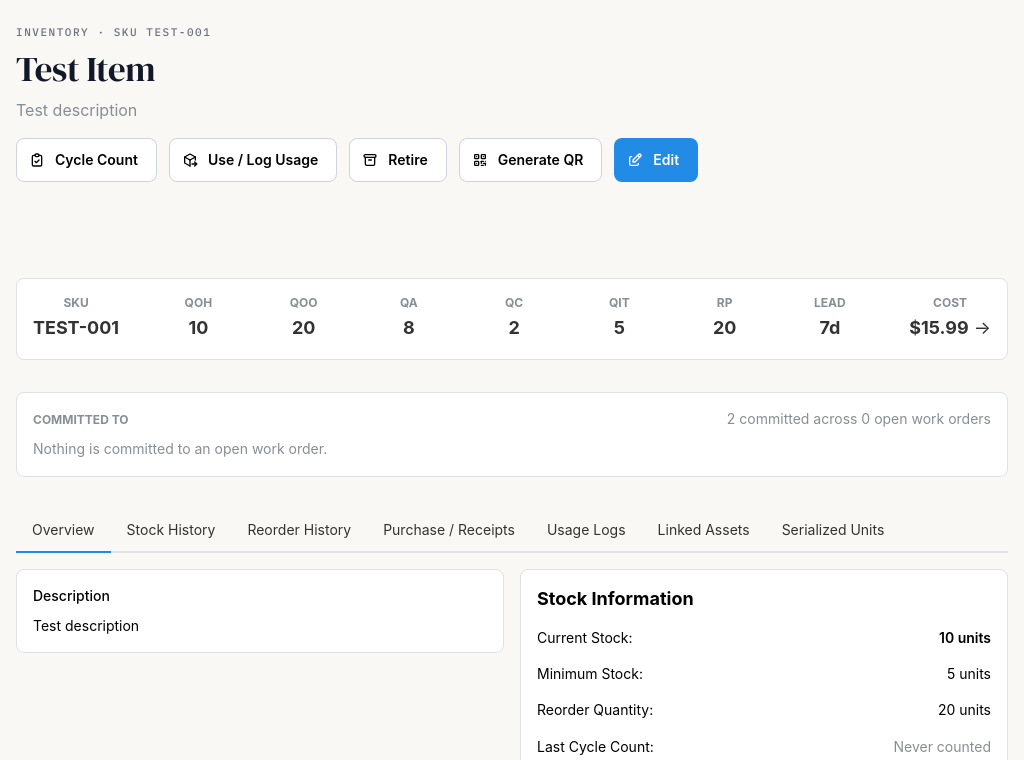
Test: InventoryItemDetailPage › renders empty-state copy for each history tab when there is no activity
Expected: the heading "Test Item" is shown, [16,45,155,93]
# Each history tab shows its own empty-state copy once activated.
Step 1. Click the tab "Reorder History" → (299, 531), box [231,509,367,553]
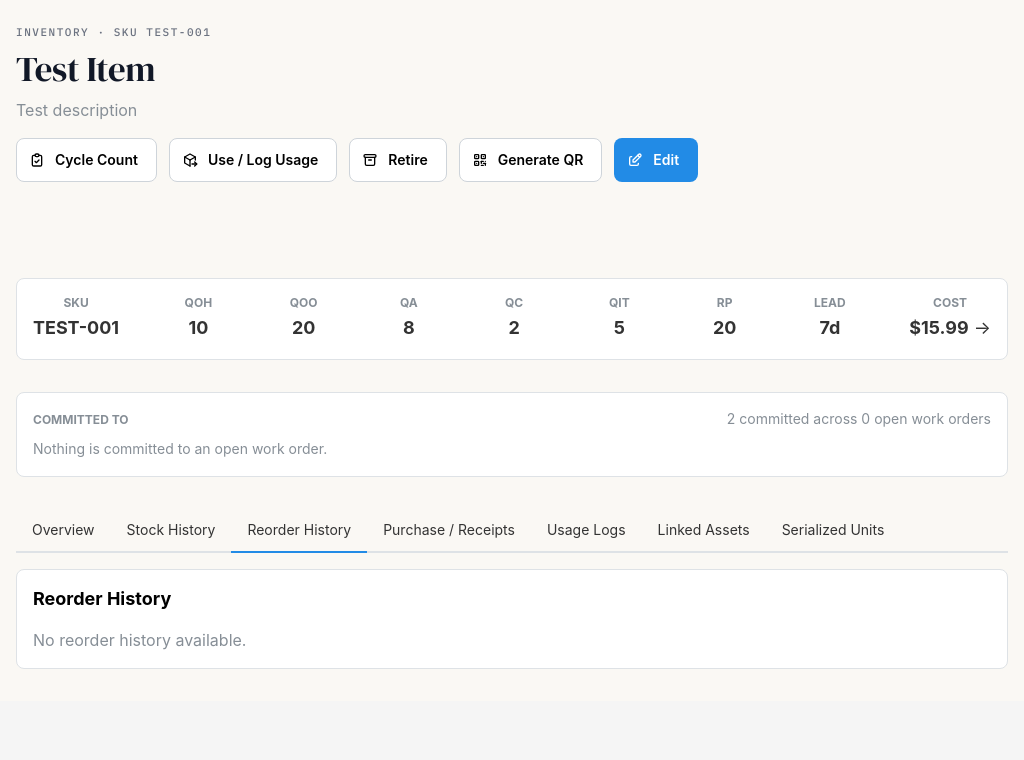
Result: the text "No reorder history available." is shown at [33,630,246,650]
Step 2. Click the tab "Usage Logs" → (586, 531), box [531,509,642,553]
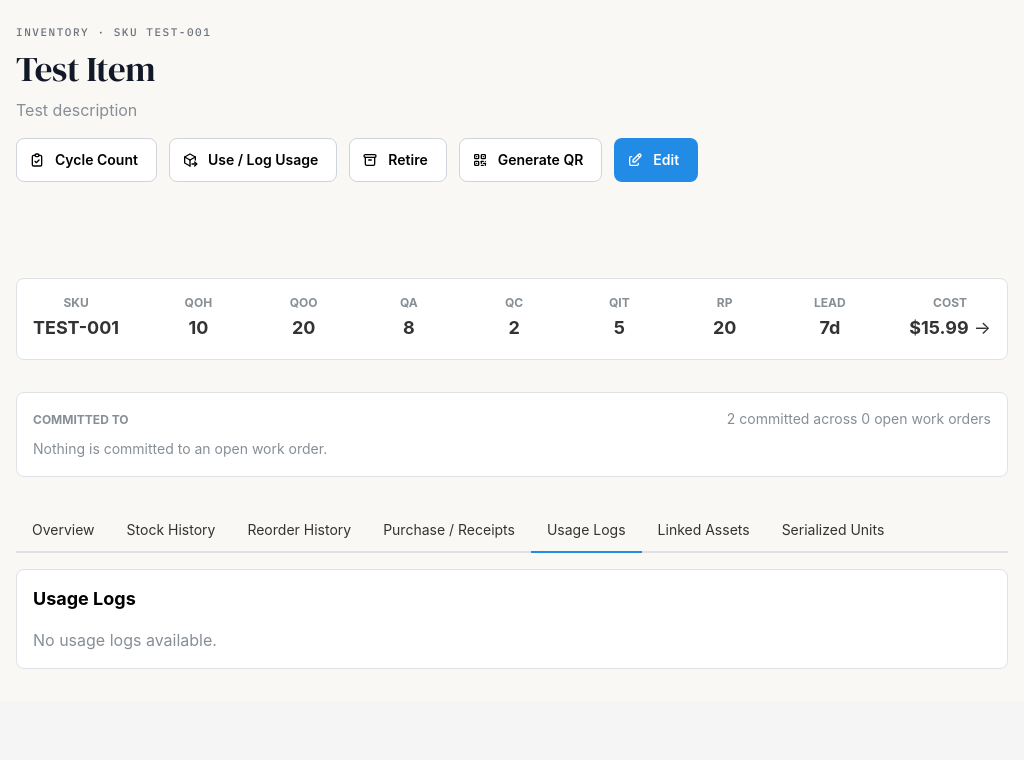
Result: the text "No usage logs available." is shown at [33,630,217,650]
Step 3. Click the tab "Linked Assets" → (704, 531), box [642,509,766,553]
(page scrolled)
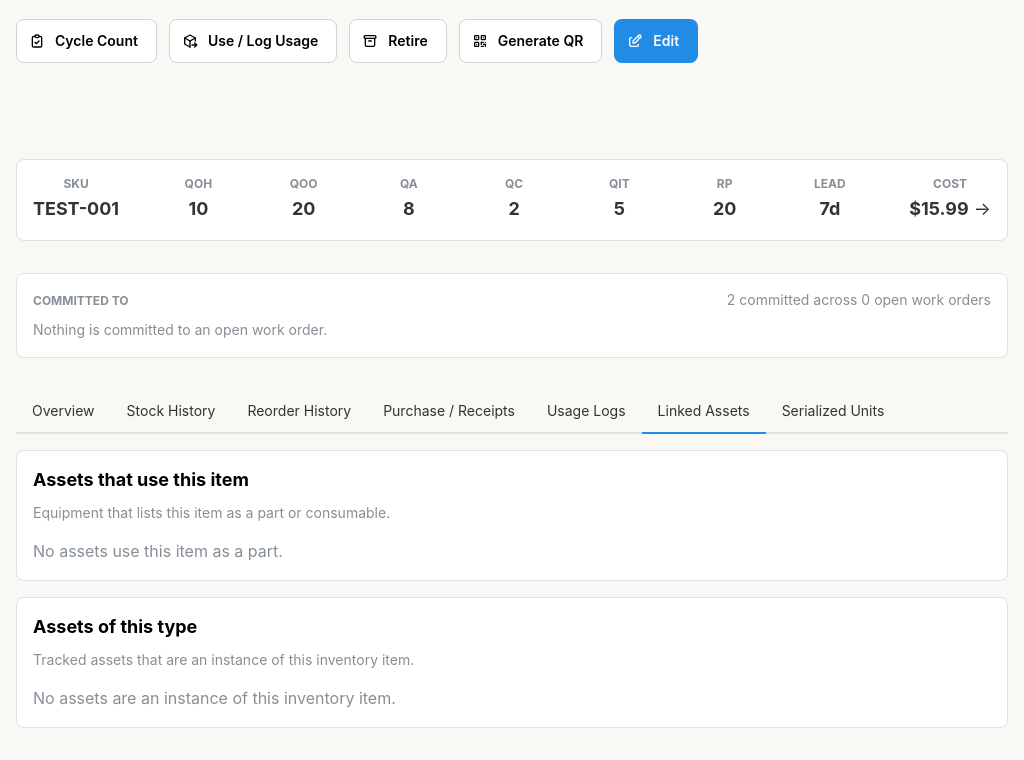
Result: the text "No assets use this item as a part." is shown at [33,541,283,561]
Result: the text "No assets are an instance of this inventory item." is shown at [33,688,396,708]
